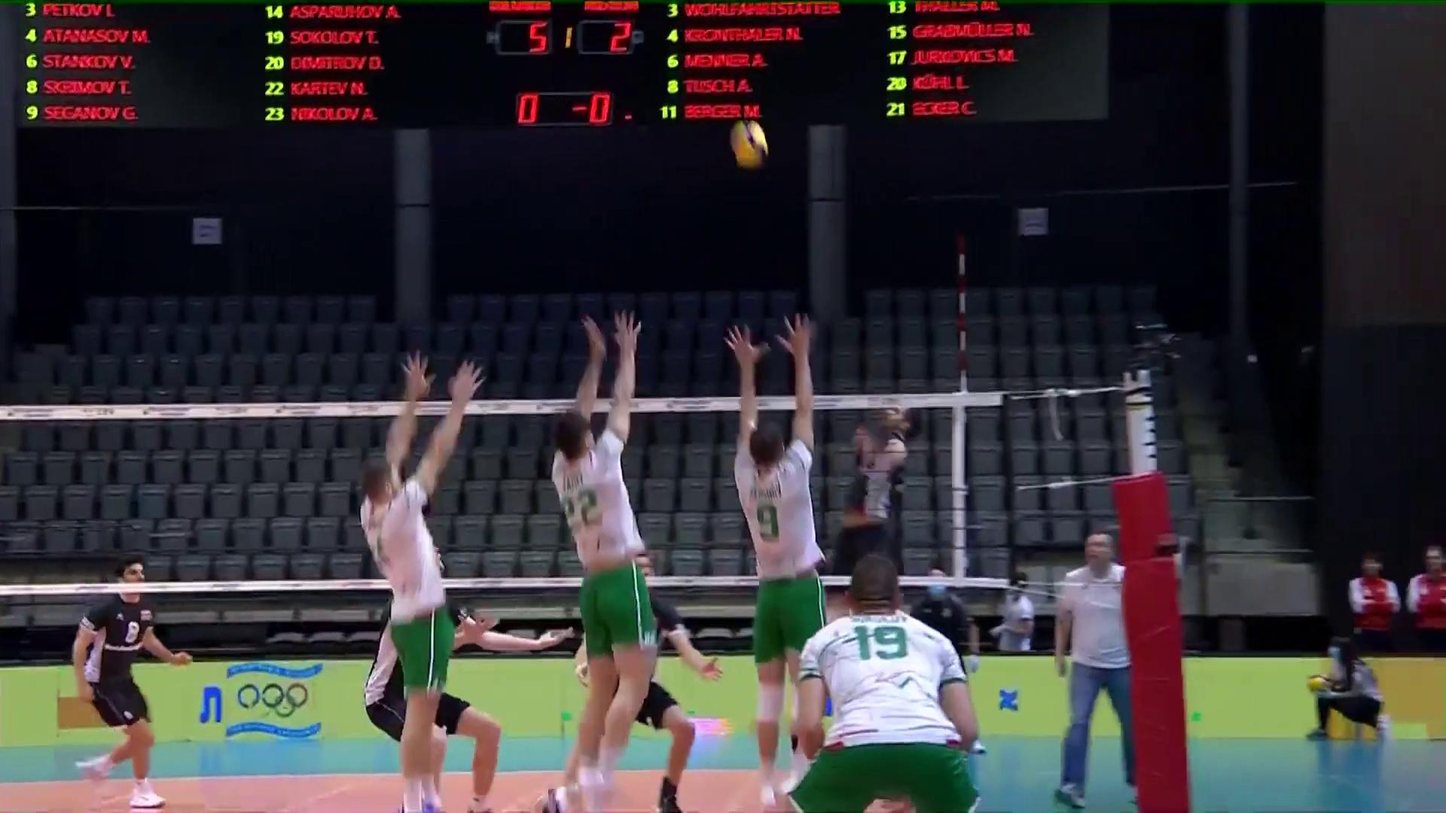ball: (730, 119, 773, 170)
